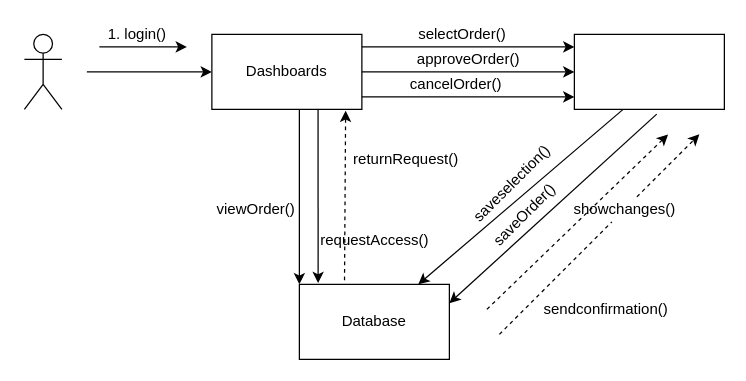
This 746x381 diagram has some shape labels left out. The box of each missing label's shape, as (x1, y1, x2, y2) in pixels:
Admin: (23, 33, 62, 109)
Order: (573, 33, 724, 109)
